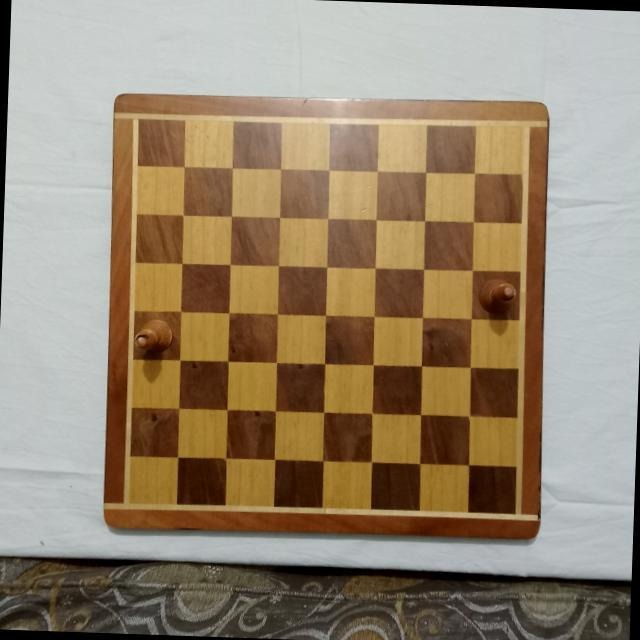white-bishop: (478, 276, 518, 316)
